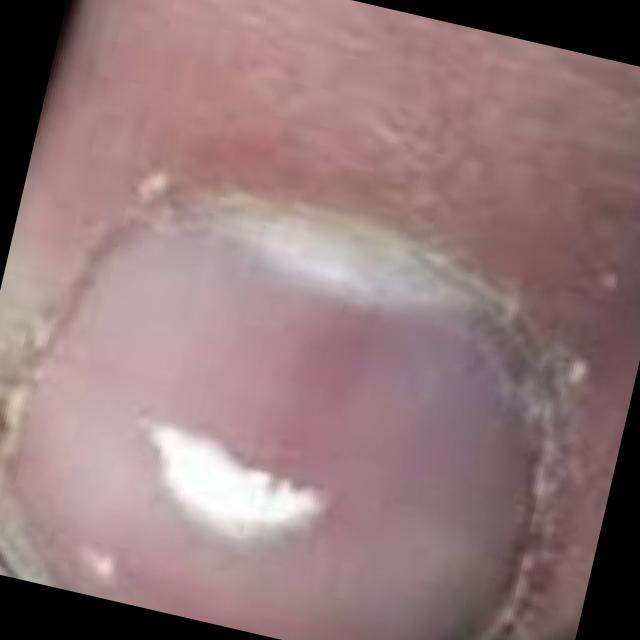Nail: (0, 203, 530, 640)
